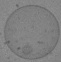small: (23, 44, 32, 55)
